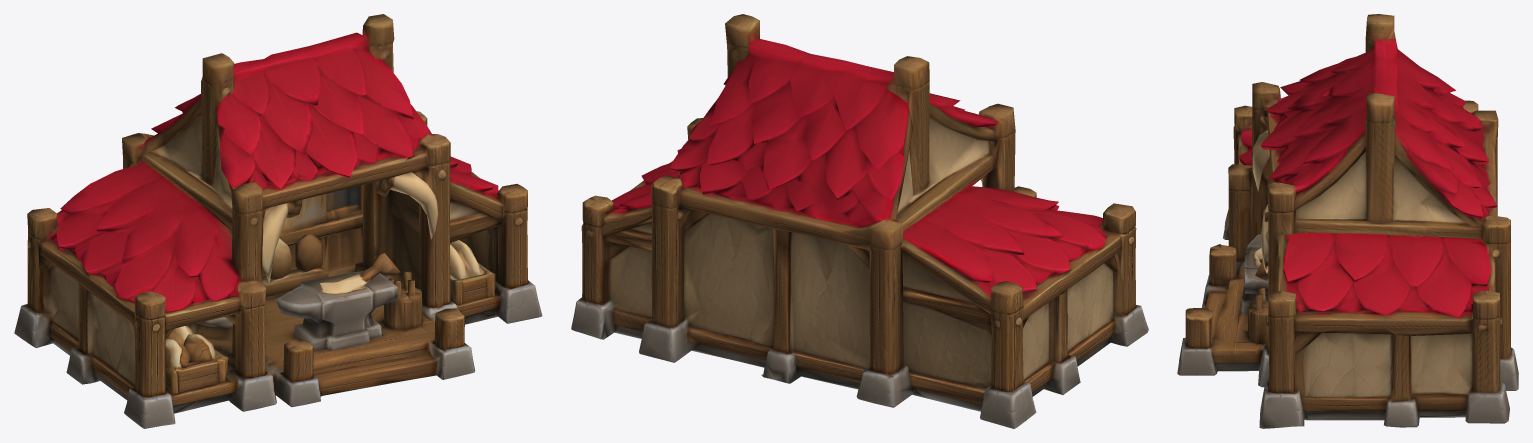
File: source_2.glb
3 views of the same model, side by side, from view 1: azimuth 30°, elevation 25°; view 2: azimuth 150°, elevation 25°; view 3: azimuth 270°, elevation 25° (orthographic). The views are drawn at different scales.
Parts seen in each view (by area): view 1: tripo_node_2d092c4c-ac09-4c70-985c-0c7ecd950b55; view 2: tripo_node_2d092c4c-ac09-4c70-985c-0c7ecd950b55; view 3: tripo_node_2d092c4c-ac09-4c70-985c-0c7ecd950b55.
Part boxes in pixels (left/top/right/bottom): tripo_node_2d092c4c-ac09-4c70-985c-0c7ecd950b55: left=14, top=14, right=542, bottom=428; tripo_node_2d092c4c-ac09-4c70-985c-0c7ecd950b55: left=571, top=14, right=1148, bottom=428; tripo_node_2d092c4c-ac09-4c70-985c-0c7ecd950b55: left=1177, top=14, right=1518, bottom=428.
Size of the model in its own units: 0.98 by 0.6333 by 0.6889.
1 material, 1 textured.
